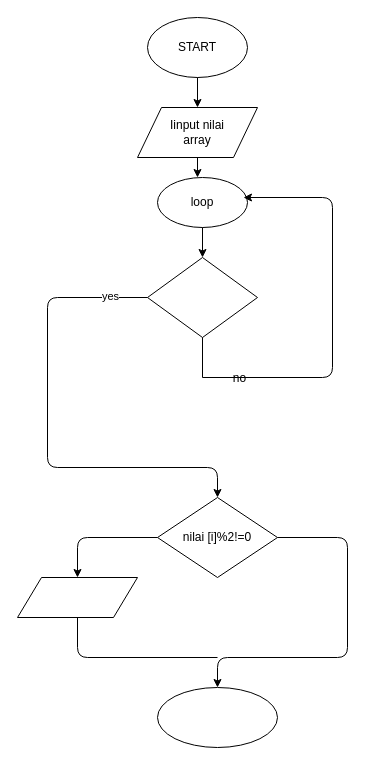
Some shapes in this 373 by 765 pixel diagram are drawn without their labels. Here are the shapes that lost their labels. From the top down, the box of each, then its label:
(146, 256, 258, 338): i=0;i<nilai. lebgth;i++
(16, 576, 138, 618): /n
